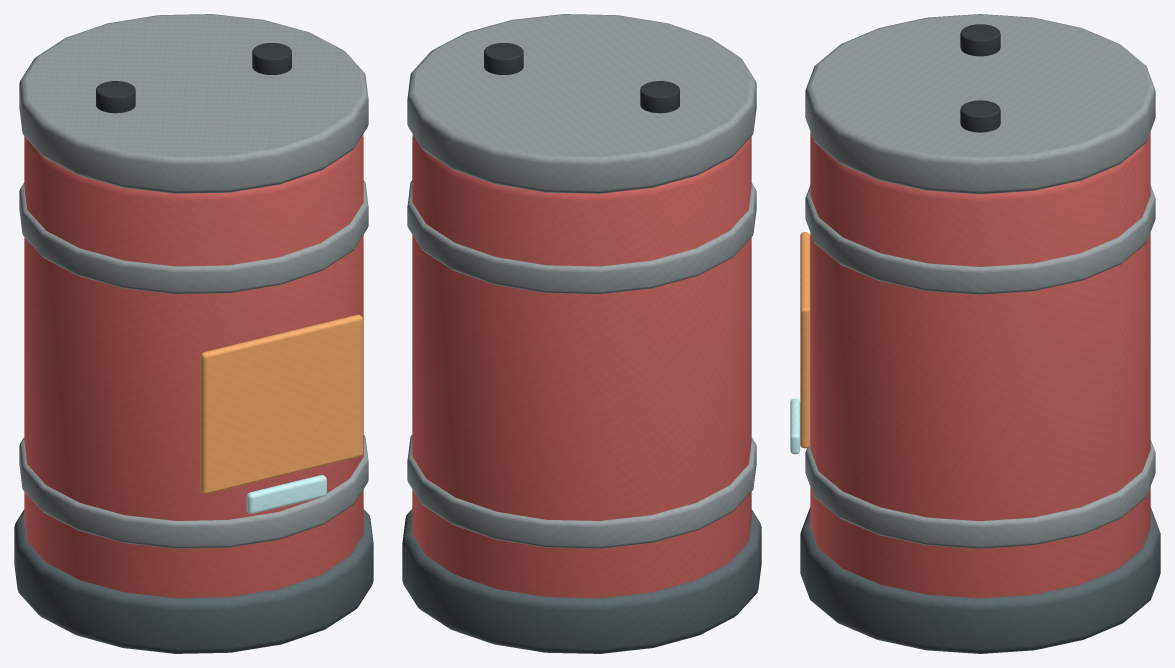
File: HazardBarrel.glb
3 renders of one model, left to right at view 1: azimuth 30°, elevation 25°; view 2: azimuth 150°, elevation 25°; view 3: azimuth 270°, elevation 25°, orthographic.
Parts seen in each view (by area): view 1: HazardBarrel_Mesh; view 2: HazardBarrel_Mesh; view 3: HazardBarrel_Mesh.
Boxes of the visible parts, x1,y1,x2,y2 form: HazardBarrel_Mesh: (14, 14, 373, 653); HazardBarrel_Mesh: (402, 14, 761, 653); HazardBarrel_Mesh: (790, 14, 1160, 653).
Size of the model in its own units: 0.72 by 1.12 by 0.74.
6 materials, 6 textured.
